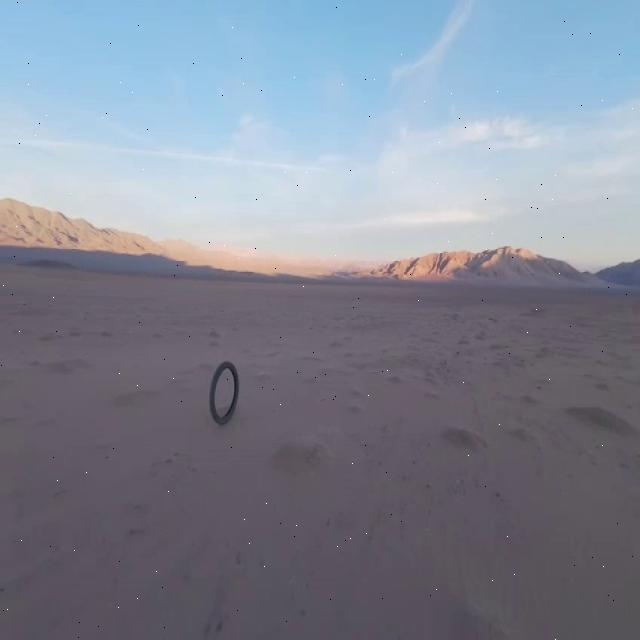Tire: (210, 362, 238, 424)
